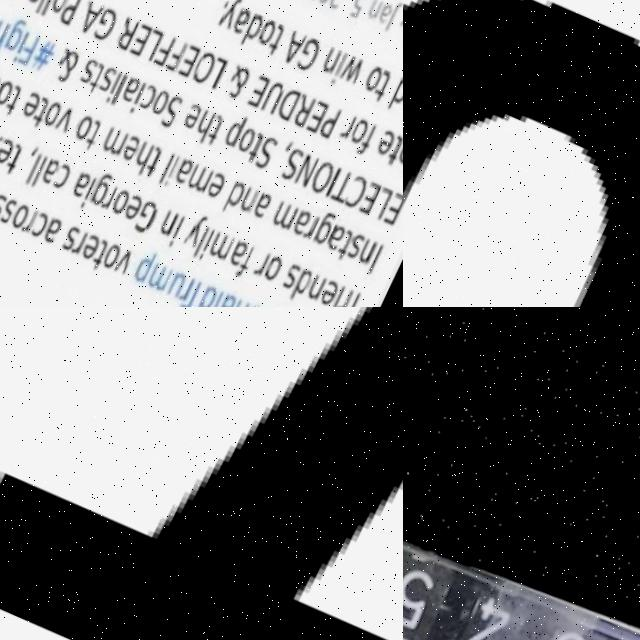0: (317, 0, 338, 6)
2: (327, 0, 348, 12)
4: (459, 591, 522, 640)
5: (403, 560, 448, 640), (349, 0, 370, 20)
6: (536, 624, 598, 640)
A: (76, 0, 106, 36), (280, 31, 309, 68), (42, 216, 67, 246), (71, 170, 96, 200), (120, 75, 145, 105), (41, 156, 65, 187), (230, 6, 254, 37), (174, 156, 197, 187), (230, 239, 253, 269), (254, 192, 277, 222), (292, 208, 314, 238), (328, 225, 349, 253), (377, 4, 395, 28), (217, 292, 242, 307)
C: (344, 175, 372, 213), (53, 161, 76, 192), (138, 83, 161, 113), (32, 212, 54, 240)
D: (291, 266, 319, 305), (222, 180, 250, 219), (240, 12, 268, 51), (276, 87, 305, 124), (386, 75, 403, 115), (196, 284, 222, 307)
E: (127, 20, 155, 60), (357, 181, 385, 220), (177, 43, 205, 80), (247, 74, 274, 111), (306, 100, 333, 136), (375, 128, 400, 159), (123, 193, 148, 223), (206, 171, 231, 201), (121, 134, 146, 164), (21, 90, 46, 120), (183, 101, 207, 132), (383, 192, 403, 229), (81, 233, 105, 263), (320, 278, 343, 307), (0, 136, 18, 166)
F: (357, 121, 381, 161), (17, 31, 42, 69), (153, 34, 178, 68), (165, 38, 189, 73), (238, 245, 261, 280), (342, 290, 365, 307)
G: (92, 5, 124, 45), (134, 198, 164, 237), (3, 15, 31, 54), (296, 38, 325, 75), (90, 171, 117, 209), (314, 210, 341, 248)
H: (191, 108, 219, 147), (131, 139, 158, 178), (0, 19, 12, 55)
I: (80, 175, 101, 210), (332, 52, 350, 87), (130, 81, 148, 115), (106, 72, 124, 105), (14, 31, 32, 64), (201, 227, 218, 261), (171, 215, 189, 247), (165, 156, 183, 188), (326, 168, 344, 200), (369, 245, 386, 277), (330, 285, 348, 307)
J: (385, 0, 403, 34)
L: (204, 55, 232, 92), (140, 27, 167, 64), (370, 187, 396, 223), (33, 155, 51, 187), (26, 153, 44, 185), (159, 153, 177, 185), (112, 75, 130, 107), (195, 225, 212, 257), (39, 0, 60, 17), (209, 289, 227, 307), (34, 0, 54, 16)
M: (103, 126, 132, 158), (188, 163, 217, 195), (209, 231, 238, 262), (149, 263, 177, 294), (273, 201, 301, 232)
N: (294, 154, 322, 191), (308, 274, 331, 304), (321, 47, 344, 77), (160, 209, 183, 238), (358, 239, 380, 267), (241, 186, 262, 214), (366, 0, 384, 23), (231, 298, 253, 307)
O: (403, 0, 640, 307), (308, 160, 339, 198), (191, 48, 220, 88), (149, 88, 174, 119), (73, 113, 98, 143), (10, 201, 34, 232), (102, 242, 126, 272), (350, 117, 373, 148), (264, 255, 288, 284), (363, 66, 387, 95), (43, 99, 66, 129), (111, 187, 134, 216), (238, 127, 260, 155), (258, 20, 280, 48), (0, 78, 17, 107), (49, 0, 73, 15), (398, 139, 403, 167)
P: (133, 247, 161, 287), (223, 111, 250, 151), (319, 106, 344, 141), (58, 0, 84, 27)
R: (290, 93, 319, 130), (113, 15, 142, 52), (304, 214, 322, 241), (23, 208, 41, 234), (256, 251, 274, 277), (341, 115, 359, 141), (72, 229, 89, 255), (181, 277, 198, 303), (103, 186, 119, 209), (339, 287, 356, 307)
S: (254, 133, 282, 173), (159, 94, 186, 133), (281, 146, 309, 183), (284, 263, 304, 292), (348, 234, 368, 262), (99, 66, 119, 94), (63, 225, 82, 252), (1, 198, 20, 224), (80, 58, 98, 84), (0, 192, 11, 221)
T: (0, 307, 403, 640), (331, 170, 360, 207), (182, 277, 211, 307), (4, 141, 28, 176), (372, 71, 396, 106), (92, 237, 115, 271), (87, 61, 109, 95), (266, 23, 288, 57), (4, 85, 25, 118), (144, 147, 165, 179), (32, 96, 53, 128), (84, 119, 105, 151), (337, 230, 358, 262), (246, 133, 266, 165), (207, 114, 227, 146), (386, 135, 403, 167)
U: (261, 79, 290, 118), (169, 272, 190, 299)
V: (115, 248, 139, 277), (55, 104, 79, 133)
W: (340, 55, 368, 86)
X: (0, 130, 6, 161)
Y: (184, 211, 212, 251), (217, 0, 245, 32)
